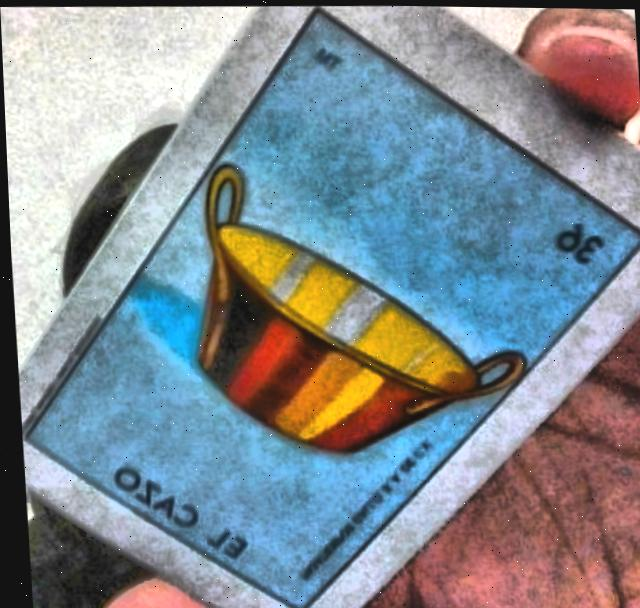El Cazo: (19, 7, 640, 608)
